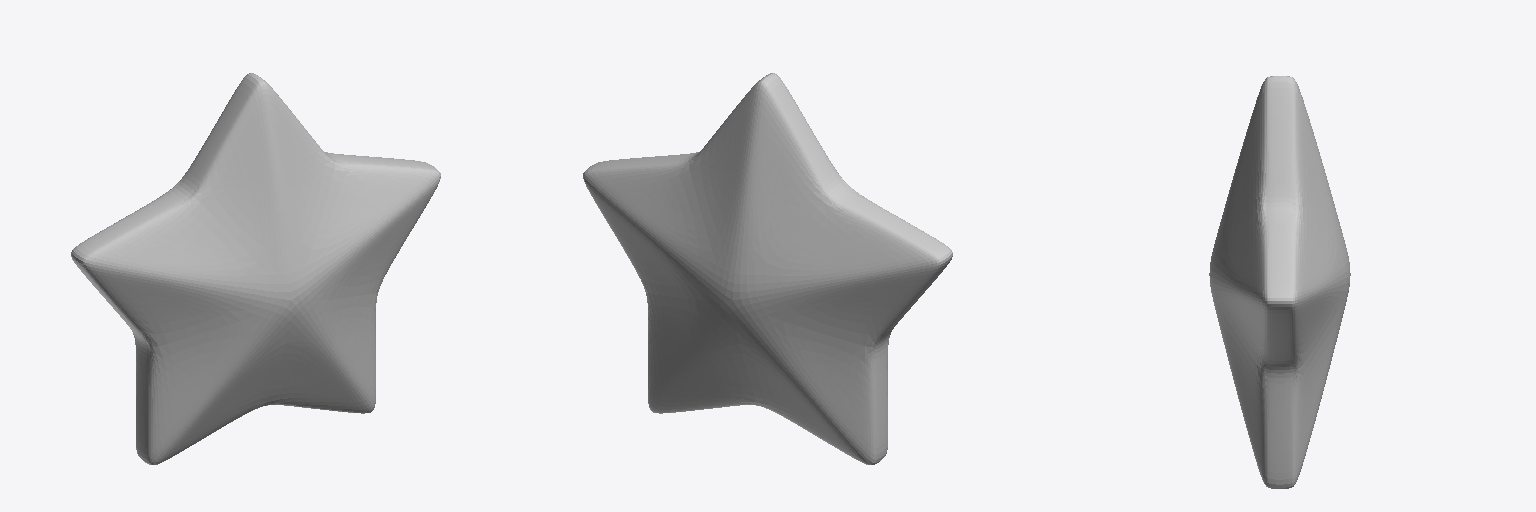
The model's file is star.obj.
3 views of the same model, side by side, from view 1: azimuth 30°, elevation 25°; view 2: azimuth 150°, elevation 25°; view 3: azimuth 270°, elevation 25° (orthographic).
Parts seen in each view (by area): view 1: Star; view 2: Star; view 3: Star.
Boxes of the visible parts, x1,y1,x2,y2 form: Star: [71, 73, 440, 464]; Star: [583, 73, 952, 464]; Star: [1209, 76, 1350, 488].
Bounding box in the file's own units: 1.82 × 1.74 × 0.6179.